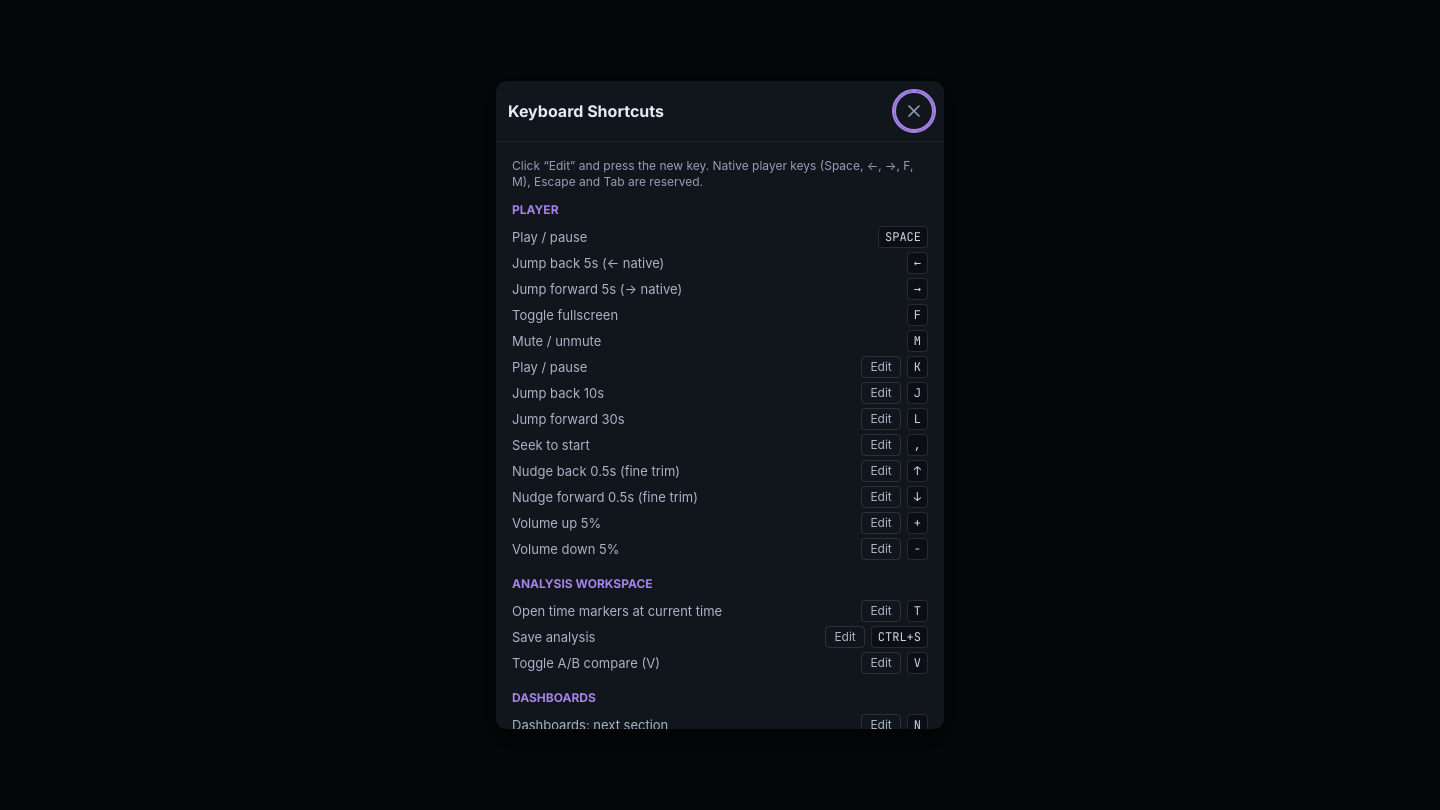
Test case: ShortcutHelpModal — atalhos configuráveis (A1) › captura tecla, grava no storage e marca como custom
Click the button with aria-label "edit — open time markers" at (881, 611), box [861, 600, 901, 622]
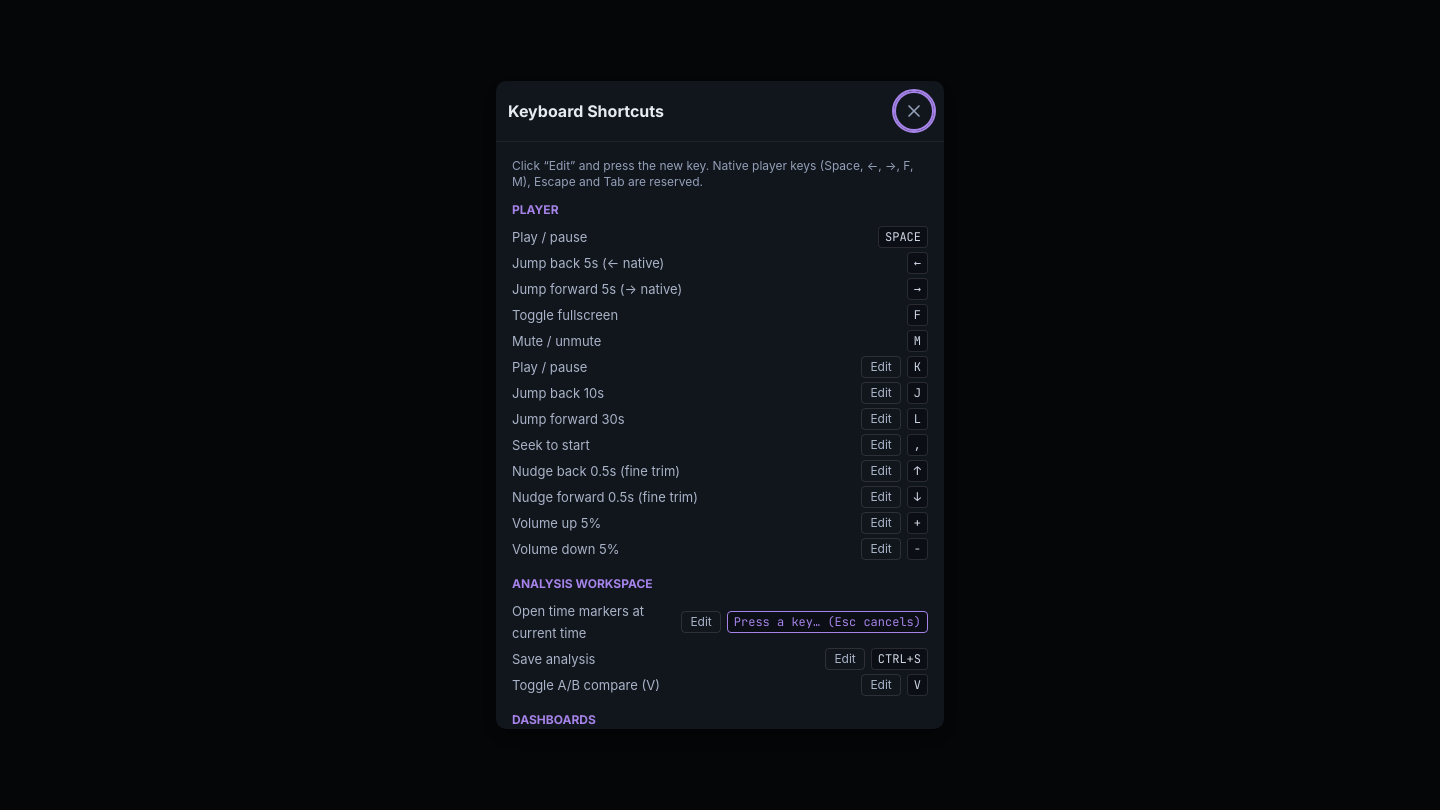
Check: the message shows "Press a key", box [734, 614, 921, 630]
Press w
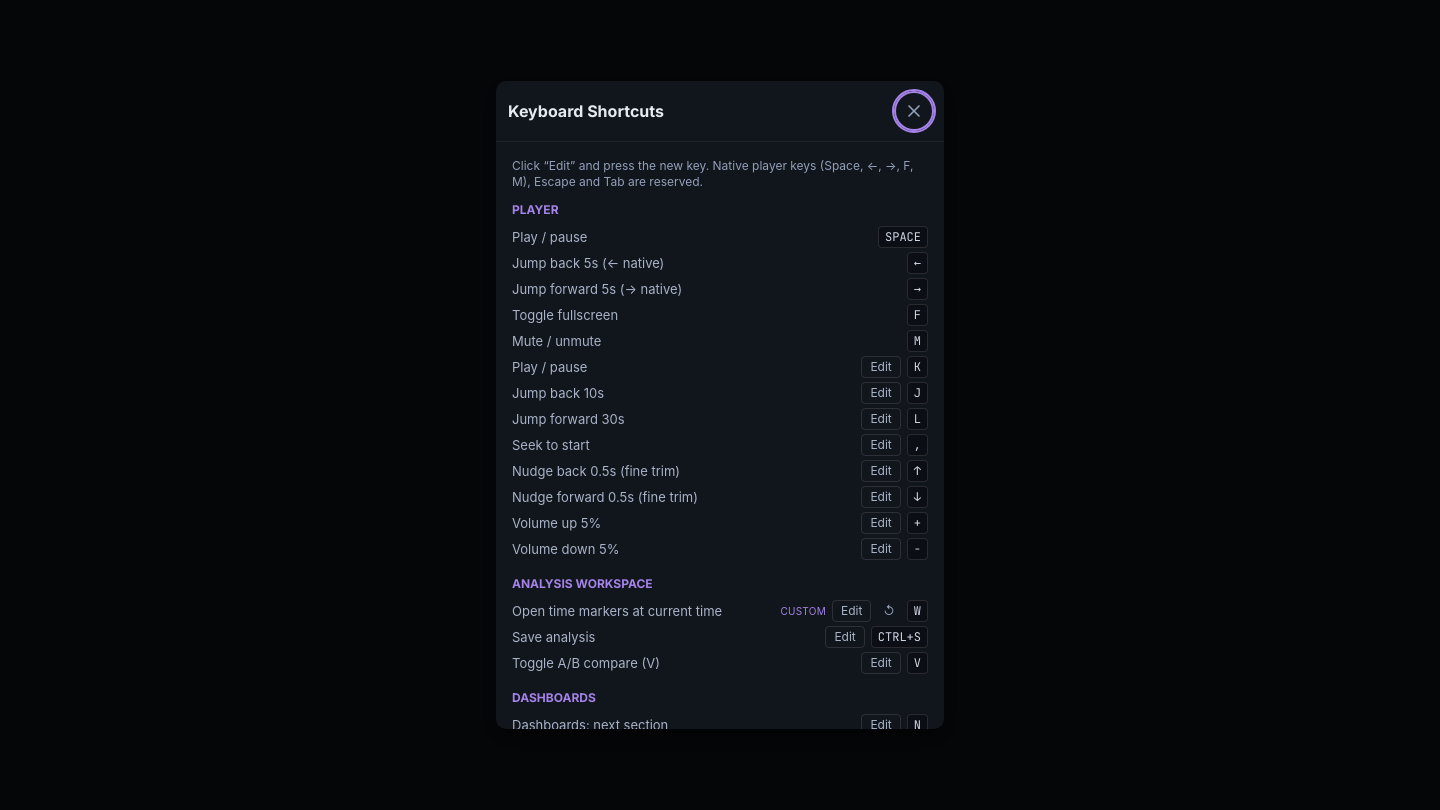
Check: the text "custom" is shown, box [780, 605, 826, 617]
Check: the list item named "edit — open time markers" reads "Open time markers at current time custom Edit ↺ W", box [914, 603, 921, 619]
